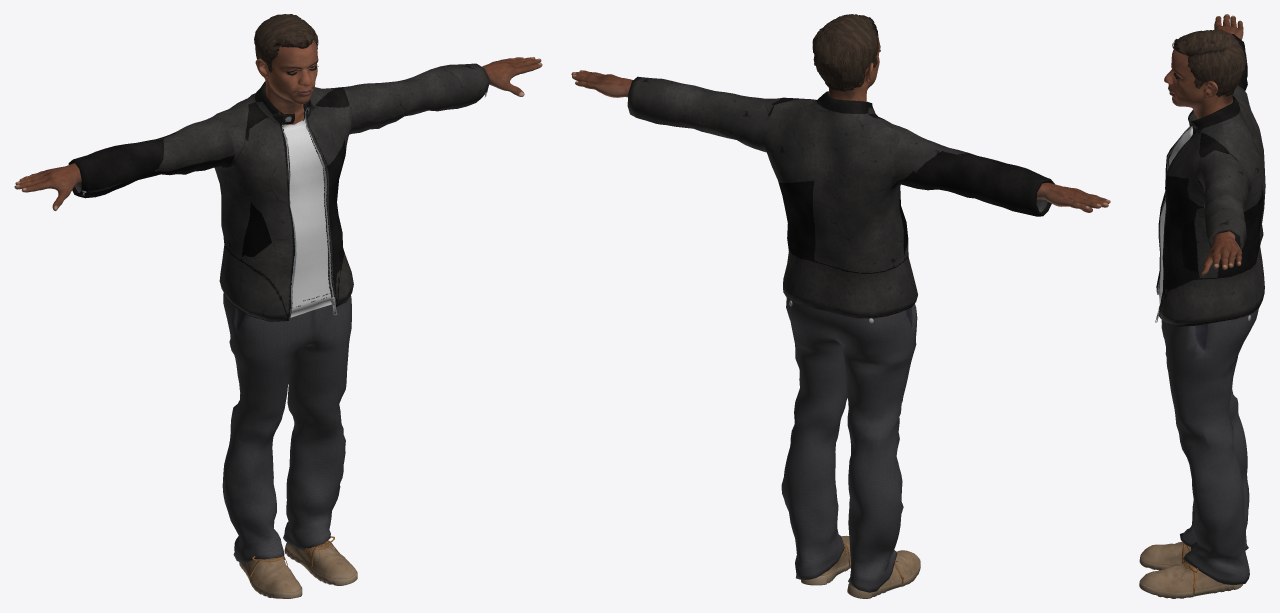
Rendered from male3.obj.
3 views of the same model, side by side, from view 1: azimuth 30°, elevation 25°; view 2: azimuth 150°, elevation 25°; view 3: azimuth 270°, elevation 25° (orthographic). The views are drawn at different scales.
Parts seen in each view (by area): view 1: Tops_Topsmesh.003, Bottoms_Bottomsmesh.003, Body_Bodymesh.003, Shoes_Shoesmesh.003, Hair_Hairmesh.003; view 2: Tops_Topsmesh.003, Bottoms_Bottomsmesh.003, Hair_Hairmesh.003, Body_Bodymesh.003, Shoes_Shoesmesh.003; view 3: Tops_Topsmesh.003, Bottoms_Bottomsmesh.003, Body_Bodymesh.003, Hair_Hairmesh.003, Shoes_Shoesmesh.003.
Part boxes in pixels (x1,y1,x2,y2): Tops_Topsmesh.003: (68,63,490,321); Bottoms_Bottomsmesh.003: (222,293,351,563); Body_Bodymesh.003: (14,40,542,210); Shoes_Shoesmesh.003: (239,536,357,598); Hair_Hairmesh.003: (254,14,318,72); Tops_Topsmesh.003: (627,76,1054,318); Bottoms_Bottomsmesh.003: (781,298,917,592); Hair_Hairmesh.003: (812,14,878,91); Body_Bodymesh.003: (571,35,1110,212); Shoes_Shoesmesh.003: (801,535,920,598); Tops_Topsmesh.003: (1155,34,1265,326); Bottoms_Bottomsmesh.003: (1161,308,1258,585); Body_Bodymesh.003: (1164,14,1243,275); Hair_Hairmesh.003: (1172,29,1246,96); Shoes_Shoesmesh.003: (1139,541,1243,598).
Size of the model in its own units: 1.76 by 1.77 by 0.3705.
5 materials, 5 textured.
